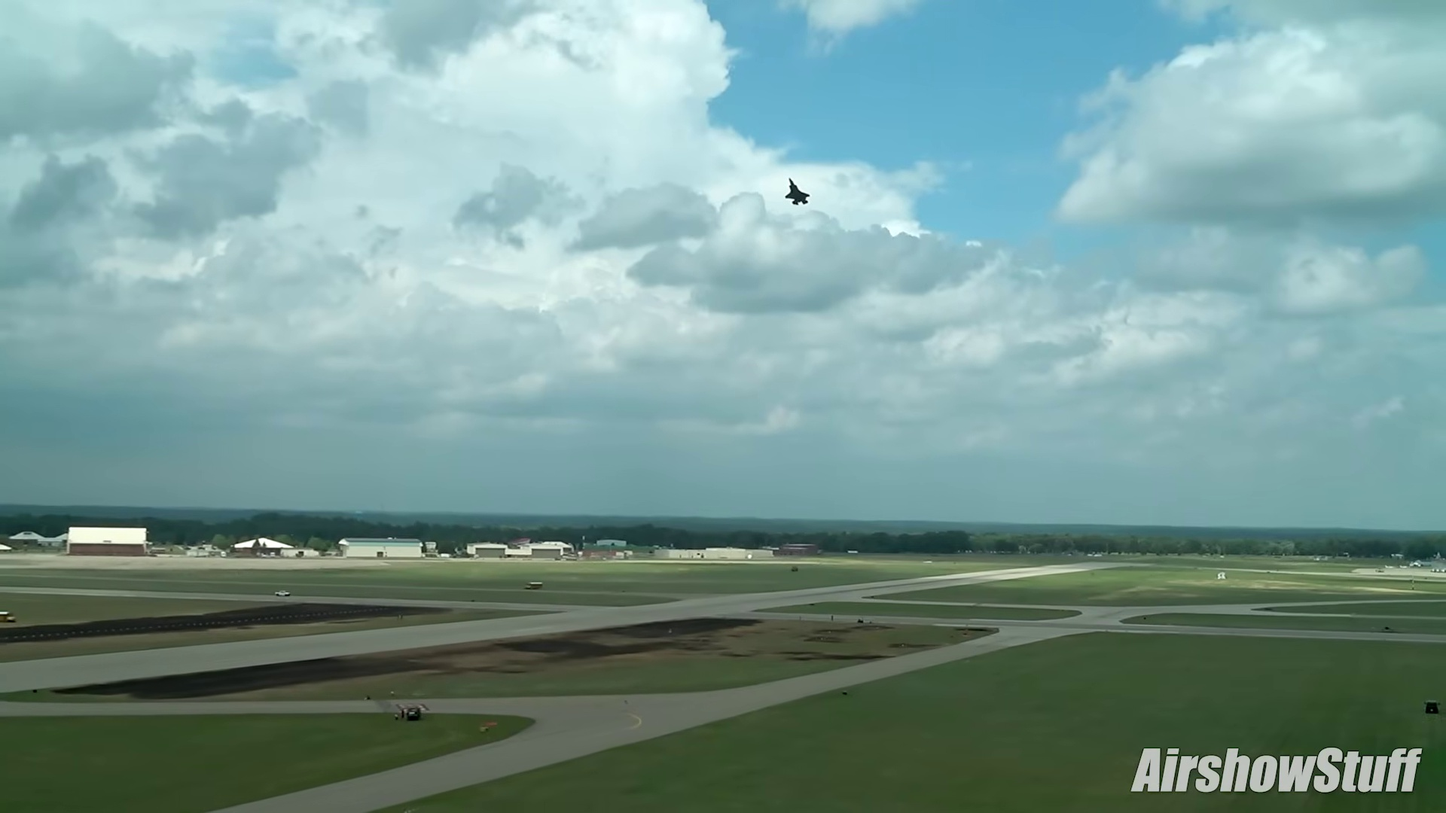F35: (776, 175, 816, 208)
